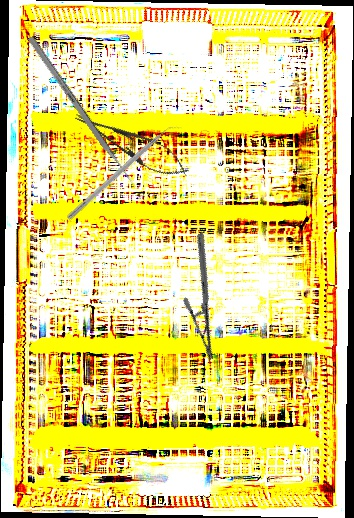Chopper: (66, 119, 183, 226)
Needle Holder: (145, 231, 266, 362), (68, 101, 195, 187)
Pusher: (27, 35, 138, 190)
